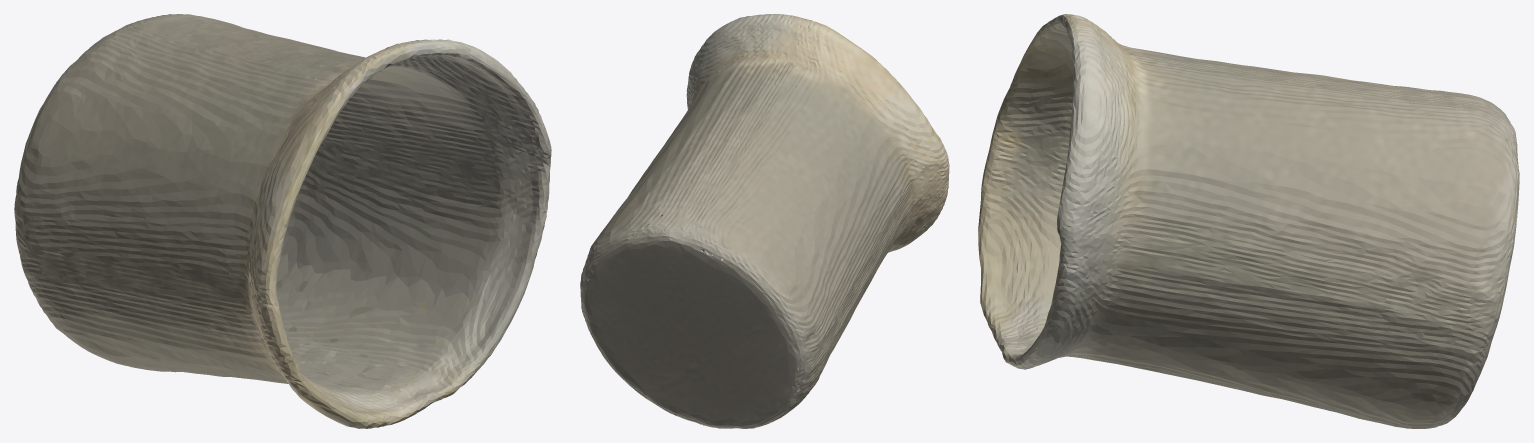
3 views of the same model, side by side, from view 1: azimuth 30°, elevation 25°; view 2: azimuth 150°, elevation 25°; view 3: azimuth 270°, elevation 25° (orthographic). The views are drawn at different scales.
Visible parts, largest first — view 1: tmpmoadw3u2.ply; view 2: tmpmoadw3u2.ply; view 3: tmpmoadw3u2.ply.
Boxes of the visible parts, x1,y1,x2,y2 form: tmpmoadw3u2.ply: [14, 14, 551, 428]; tmpmoadw3u2.ply: [580, 14, 949, 428]; tmpmoadw3u2.ply: [978, 14, 1519, 428].
Size of the model in its own units: 0.0954 by 0.1088 by 0.1273.
1 material, 1 textured.
